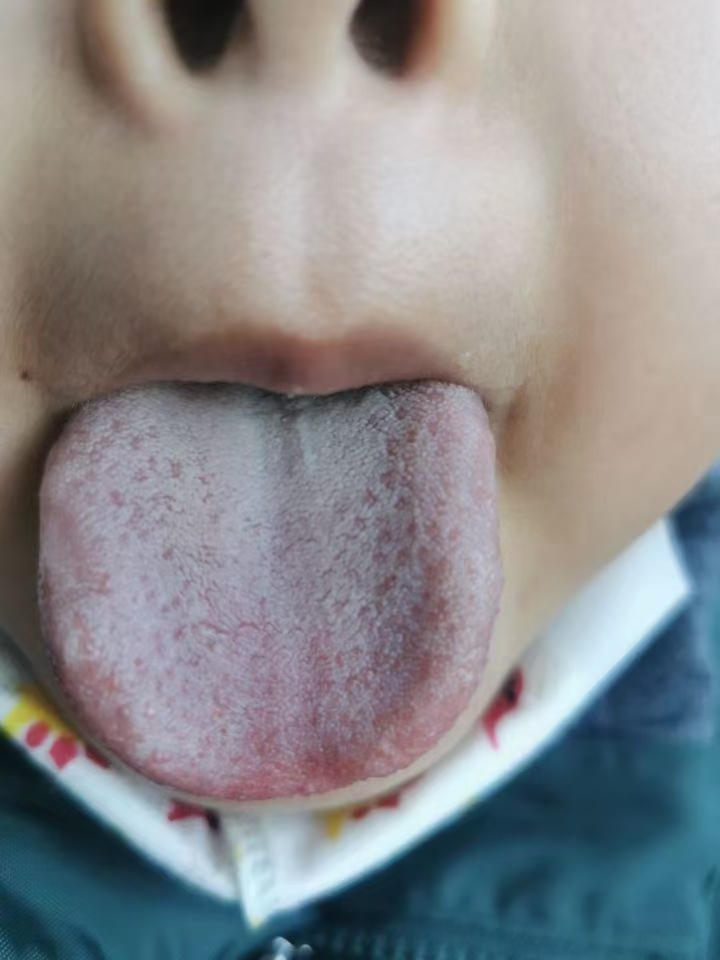baitaishe: (36, 378, 504, 801)
hongdianshe: (340, 452, 467, 609)
